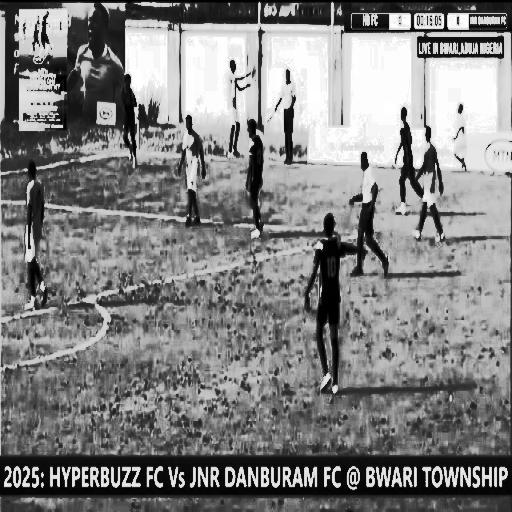distract: (448, 95, 474, 172)
referee: (348, 144, 390, 274), (277, 64, 300, 161)
team1: (18, 156, 53, 316), (182, 116, 204, 226), (225, 49, 243, 164)
team2: (308, 211, 350, 405), (112, 57, 150, 172), (245, 118, 268, 250), (394, 94, 418, 216)
